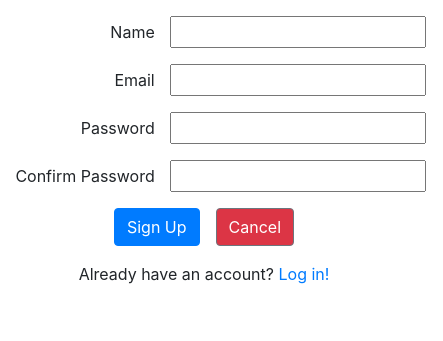
Scenario: SignupPage Component Tests › displays error from the server on failed signup
Type "Test User" into the field labelled "Name". click: (298, 32)
box: [170,16,426,48]
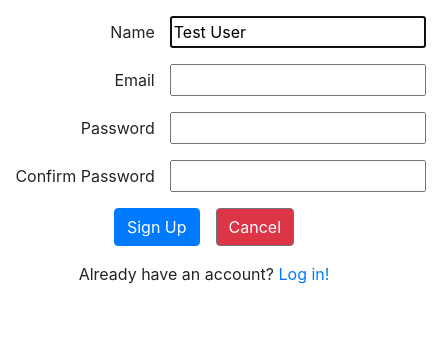
Type "test@example.com" into the field labelled "Email". click: (298, 80)
box: [170,64,426,96]
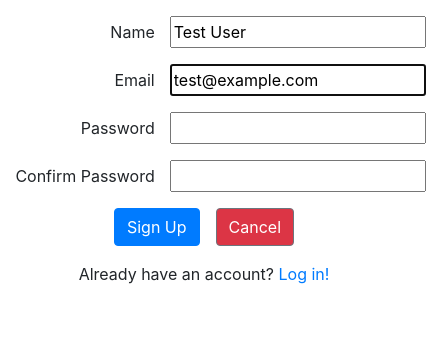
Type "password123" into the password field labelled "Password". click: (298, 128)
box: [170,112,426,144]
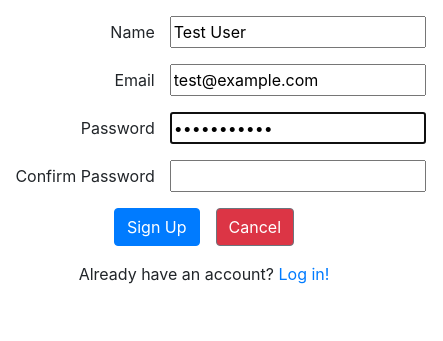
Type "password123" into the password field labelled "Confirm Password". click: (298, 176)
box: [170,160,426,192]
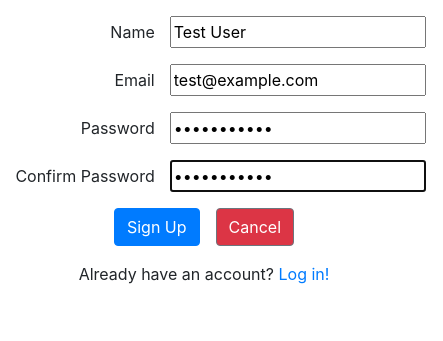
Click the button "Sign Up". click: (157, 227)
box: [114,208,200,246]
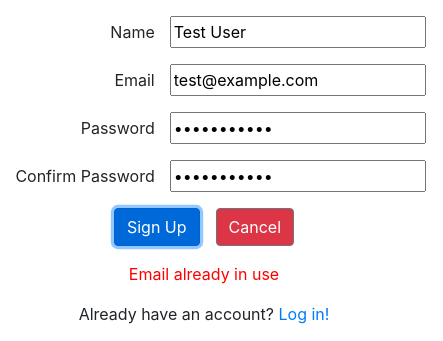
Expected: the text "Email already in use" is shown, [129,262,279,286]
